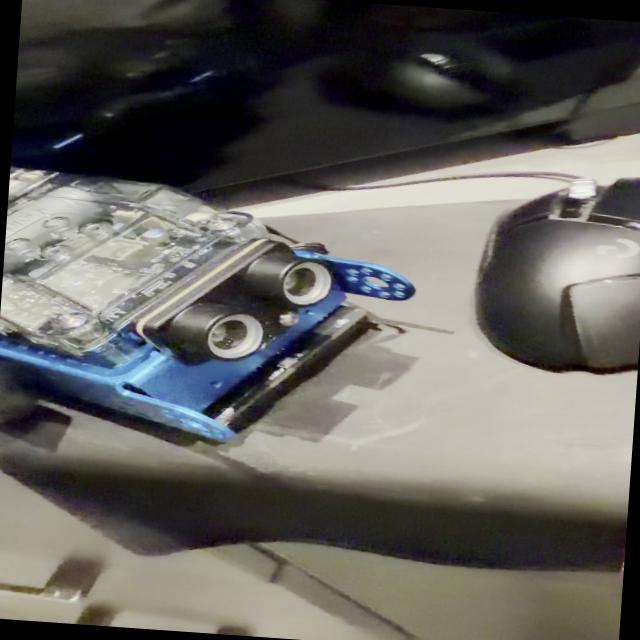mbot-detection: (0, 156, 434, 471)
